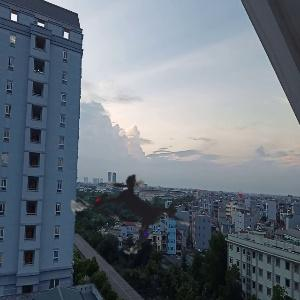drone: (45, 123, 222, 300)
